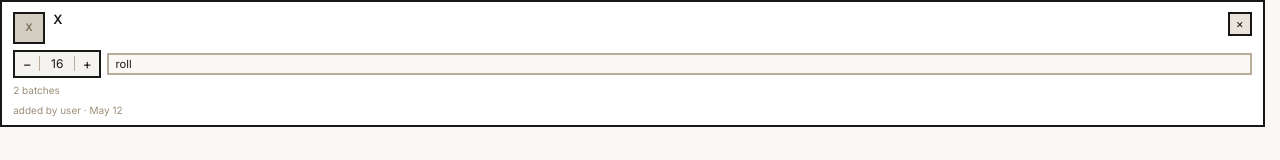
Test: ProductionCartEntry › double-click on yield display swaps to an inline input with current value selected
Double-click the button with test id "cart-entry-yield-display".
double_click(57, 64)  # box [39,56,75,72]
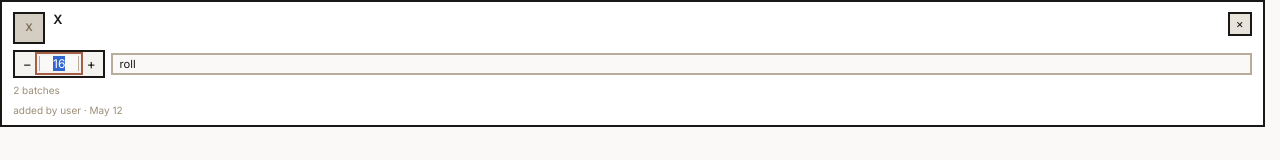
Check: the number field with test id "cart-entry-yield-edit" holds "16", box [39,56,79,72]
